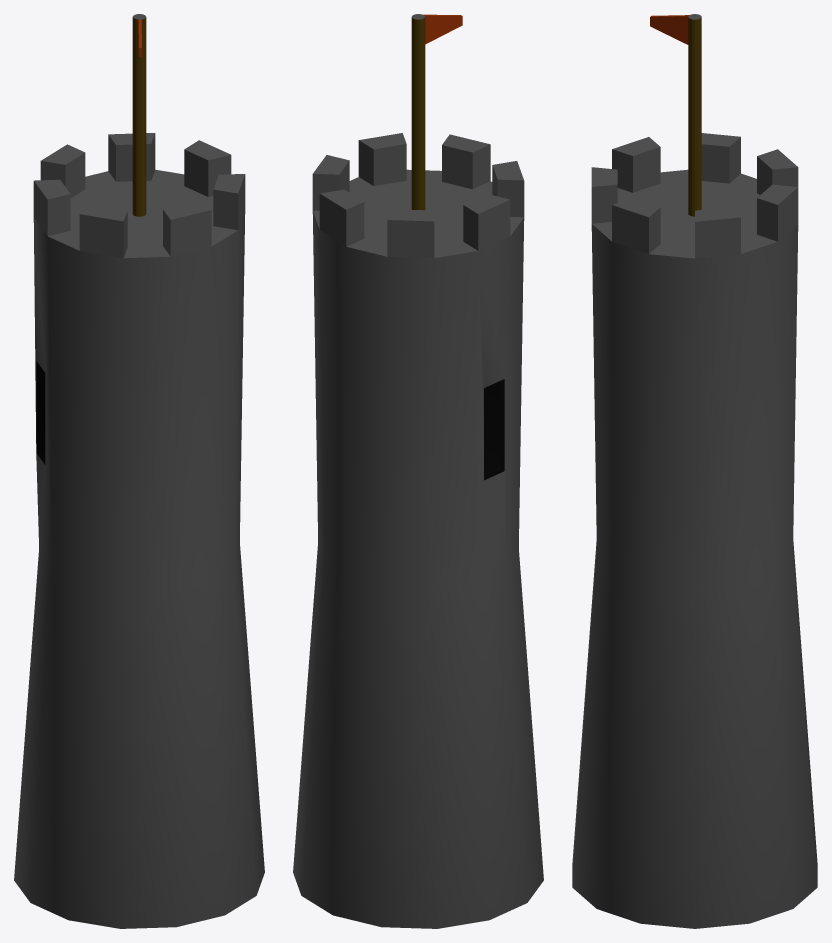
File: tower.fbx
3 renders of one model, left to right at view 1: azimuth 30°, elevation 25°; view 2: azimuth 150°, elevation 25°; view 3: azimuth 270°, elevation 25°, orthographic.
Visible parts, largest first — view 1: pCylinder1; view 2: pCylinder1; view 3: pCylinder1.
Part boxes in pixels (x1,y1,x2,y2): pCylinder1: (14,14,264,928); pCylinder1: (293,14,543,928); pCylinder1: (572,14,817,928).
Size of the model in its own units: 3.39 by 12.77 by 3.3.
